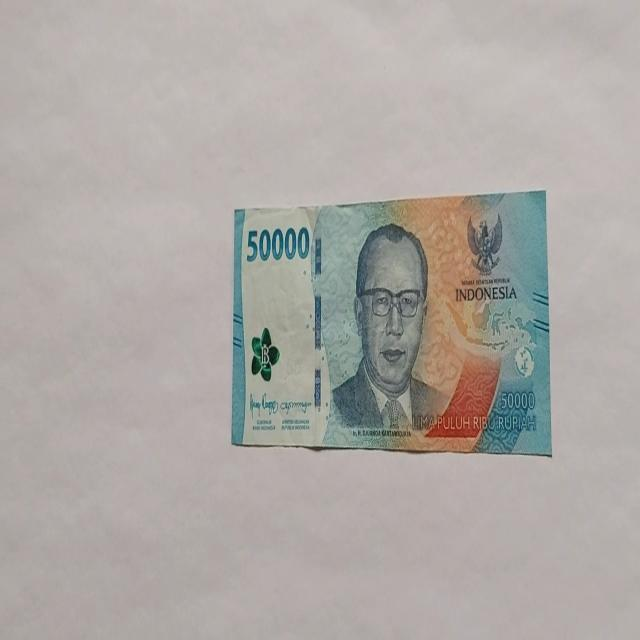lima puluh ribu rupiah: (230, 190, 552, 456), (326, 222, 452, 438)
